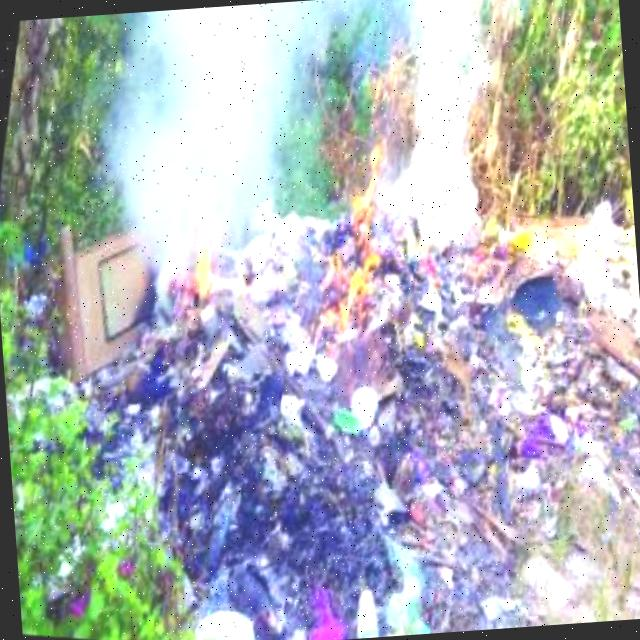fire: (63, 0, 355, 280), (351, 0, 540, 252), (302, 116, 422, 360), (174, 186, 234, 303)
